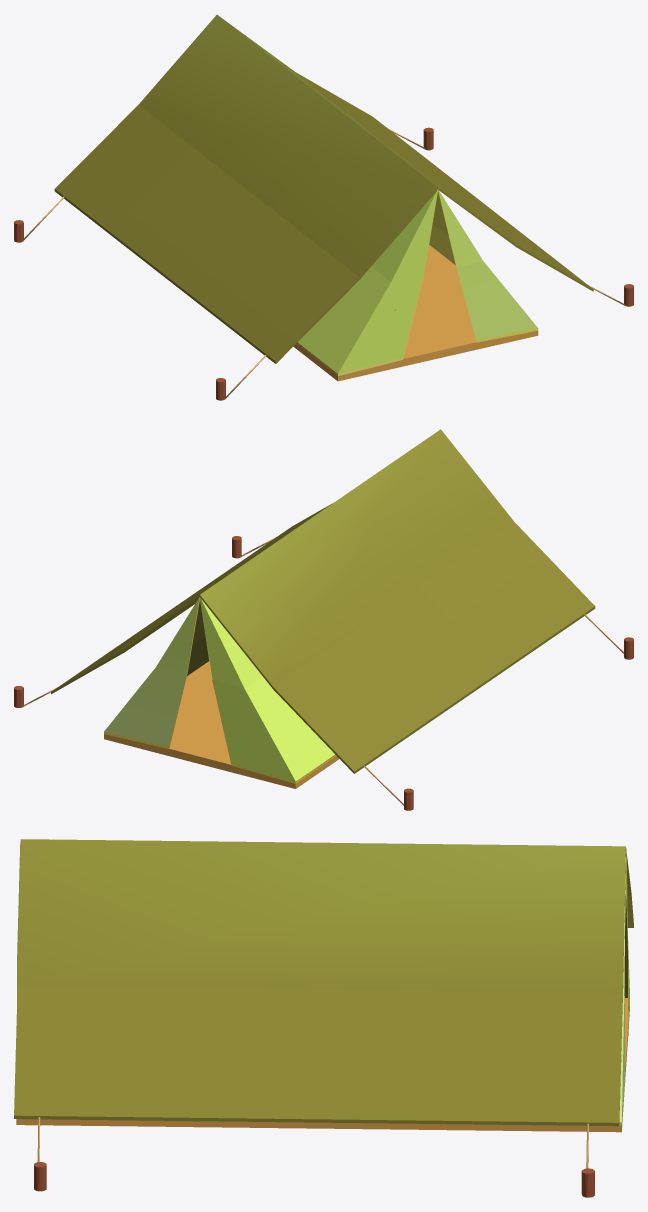
The model's file is tent2.fbx.
3 views of the same model, one above another, from view 1: azimuth 30°, elevation 25°; view 2: azimuth 150°, elevation 25°; view 3: azimuth 270°, elevation 25° (orthographic). The views are drawn at different scales.
Parts seen in each view (by area): view 1: Tent2; view 2: Tent2; view 3: Tent2.
Boxes of the visible parts, x1,y1,x2,y2 form: Tent2: (14, 14, 633, 400); Tent2: (14, 429, 633, 810); Tent2: (14, 839, 633, 1197).
Bounding box in the file's own units: 3152 × 1226 × 3085.
